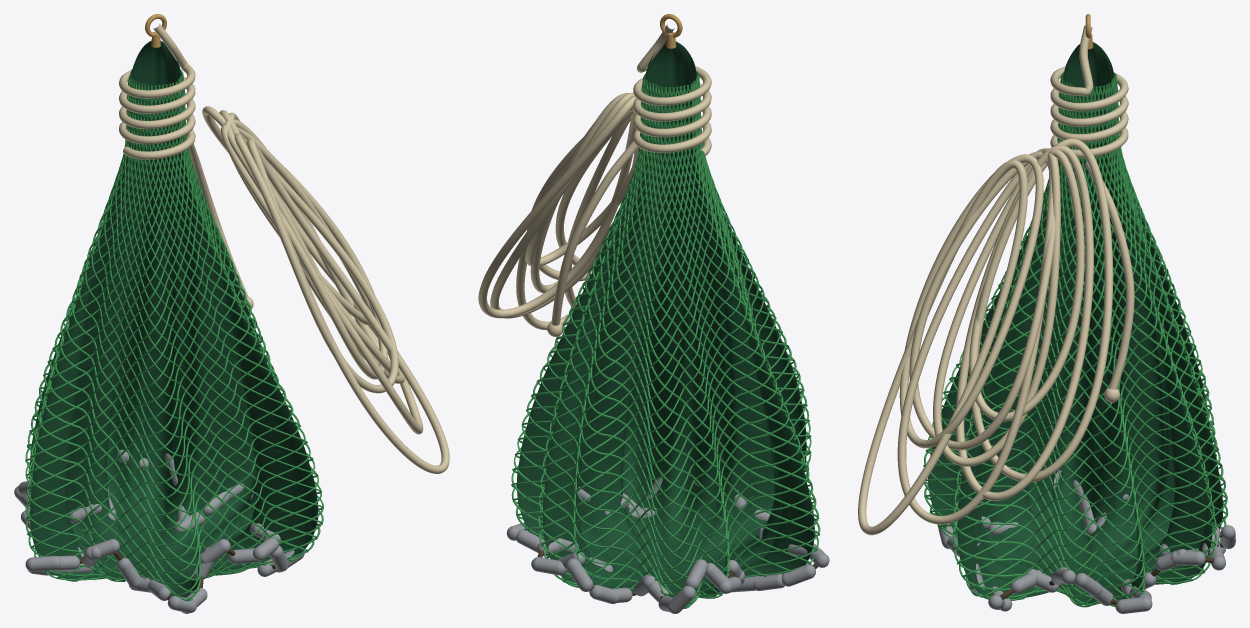
Rendered from jaring ditangan.glb.
3 views of the same model, side by side, from view 1: azimuth 30°, elevation 25°; view 2: azimuth 150°, elevation 25°; view 3: azimuth 270°, elevation 25° (orthographic). The views are drawn at different scales.
Visible parts, largest first — view 1: net_body, net_mesh_twine, hand_rope, lead_weights; view 2: net_body, net_mesh_twine, hand_rope, lead_weights; view 3: net_body, hand_rope, net_mesh_twine, lead_weights.
Part boxes in pixels (x1=…): net_body: x1=30, y1=40, x2=318, y2=597; net_mesh_twine: x1=25, y1=69, x2=323, y2=601; hand_rope: x1=119, y1=23, x2=449, y2=473; lead_weights: x1=14, y1=449, x2=304, y2=613; net_body: x1=516, y1=41, x2=814, y2=601; net_mesh_twine: x1=511, y1=70, x2=820, y2=608; hand_rope: x1=478, y1=24, x2=711, y2=336; lead_weights: x1=506, y1=477, x2=829, y2=613; net_body: x1=928, y1=42, x2=1223, y2=603; hand_rope: x1=858, y1=25, x2=1134, y2=535; net_mesh_twine: x1=923, y1=72, x2=1228, y2=607; lead_weights: x1=937, y1=470, x2=1235, y2=613.
Bounding box in the file's own units: 0.344 × 0.5166 × 0.3168.
